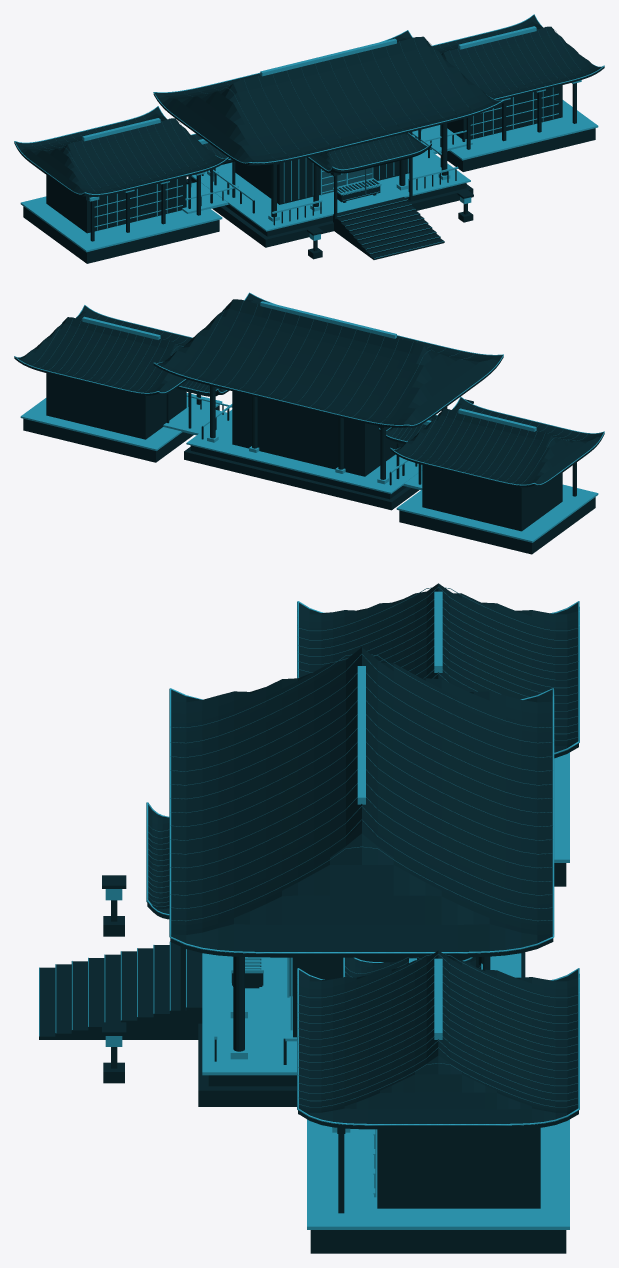
File: honden-01.glb
The picture shows the model from 3 angles, top to bottom: view 1: azimuth 30°, elevation 25°; view 2: azimuth 150°, elevation 25°; view 3: azimuth 270°, elevation 25°; orthographic projection. The views are drawn at different scales.
Visible parts, largest first — view 1: Main sweeping roof, West wing roof, East wing roof, Deck, West wing chamber, West wing deck, Sanctuary chamber, East wing chamber, Entrance canopy, East wing deck, West wing terrace, Foundation (+22 smaller); view 2: Main sweeping roof, West wing roof, East wing roof, Sanctuary chamber, West wing chamber, East wing chamber, Deck, West wing deck, Foundation, West wing terrace, East wing terrace, East wing deck (+10 smaller); view 3: Main sweeping roof, East wing roof, West wing roof, East wing deck, East wing chamber, Deck, East wing terrace, Foundation, Main sweeping roof eave, Entrance canopy, West wing deck, Approach stair 07 (+15 smaller).
Part boxes in pixels (<box>): Main sweeping roof: <box>153,30,503,165</box>; West wing roof: <box>14,107,228,196</box>; East wing roof: <box>432,15,604,100</box>; Deck: <box>191,150,470,231</box>; West wing chamber: <box>46,175,186,233</box>; West wing deck: <box>20,196,222,252</box>; Sanctuary chamber: <box>235,132,412,204</box>; East wing chamber: <box>447,85,562,139</box>; Entrance canopy: <box>307,133,431,173</box>; East wing deck: <box>449,100,598,160</box>; West wing terrace: <box>23,206,219,263</box>; Foundation: <box>186,179,473,247</box>; Main sweeping roof: <box>153,293,503,427</box>; West wing roof: <box>390,397,604,487</box>; East wing roof: <box>14,305,191,395</box>; Sanctuary chamber: <box>232,391,403,476</box>; West wing chamber: <box>422,465,562,531</box>; East wing chamber: <box>46,373,186,439</box>; Deck: <box>186,409,422,493</box>; West wing deck: <box>396,484,598,542</box>; Foundation: <box>184,447,418,510</box>; West wing terrace: <box>399,497,595,554</box>; East wing terrace: <box>23,405,219,462</box>; East wing deck: <box>20,393,222,450</box>; Main sweeping roof: <box>170,647,553,957</box>; East wing roof: <box>298,950,578,1129</box>; West wing roof: <box>299,583,578,758</box>; East wing deck: <box>307,1119,569,1229</box>; East wing chamber: <box>377,1127,540,1208</box>; Deck: <box>202,953,521,1075</box>; East wing terrace: <box>310,1230,566,1253</box>; Foundation: <box>198,952,525,1106</box>; Main sweeping roof eave: <box>169,688,554,953</box>; Entrance canopy: <box>147,805,169,919</box>; West wing deck: <box>554,752,569,862</box>; Approach stair 07: <box>153,945,170,1039</box>.
Size of the model in its own units: 47.08 by 11.82 by 21.18.
